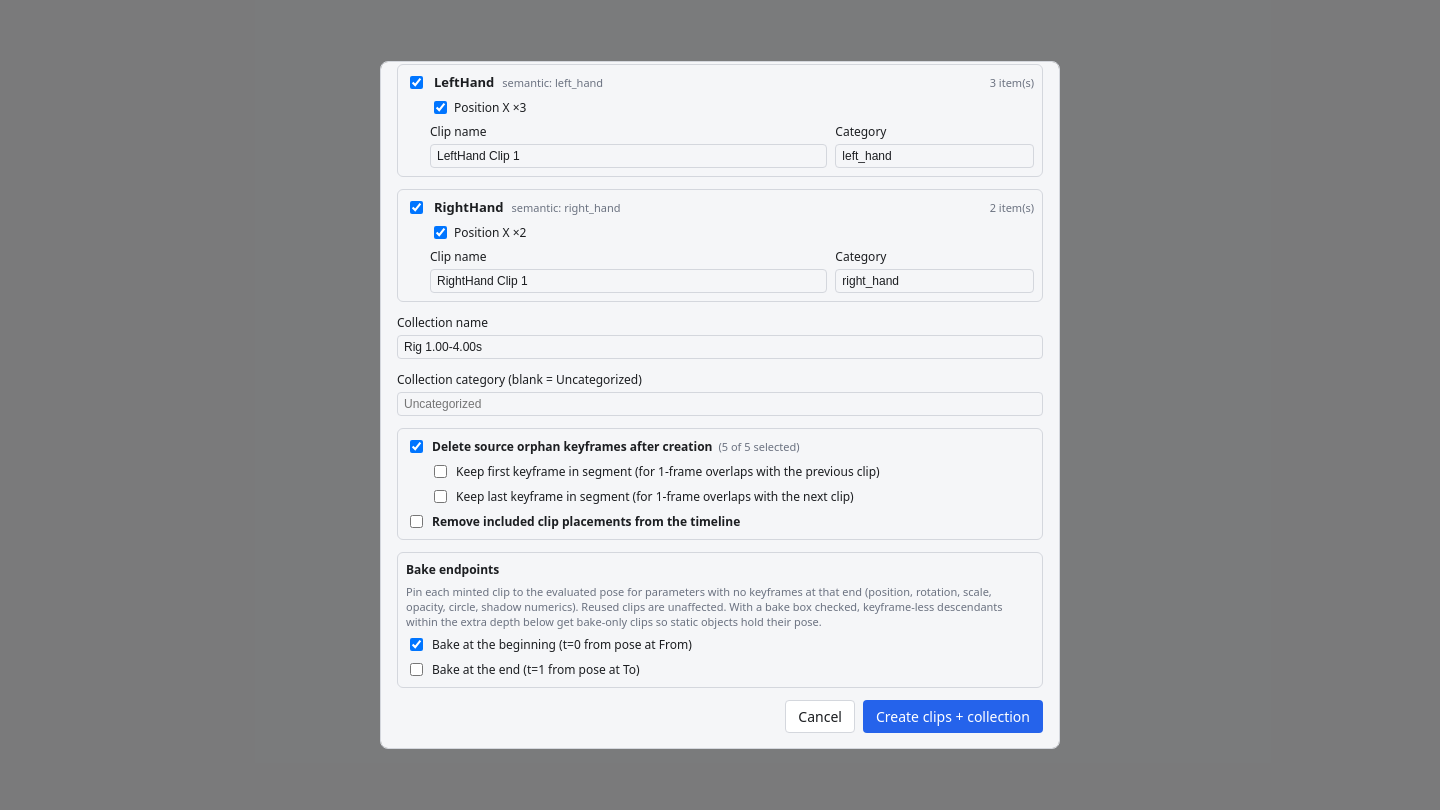
Test: TimeSegmentToCollectionModal › surfaces executor errors inline
(page scrolled)
Expected: the element with test id "segment-object-nA" is shown, [397, 64, 1043, 177]
Click the button with test id "segment-confirm".
click(953, 716)  # box [863, 700, 1043, 733]
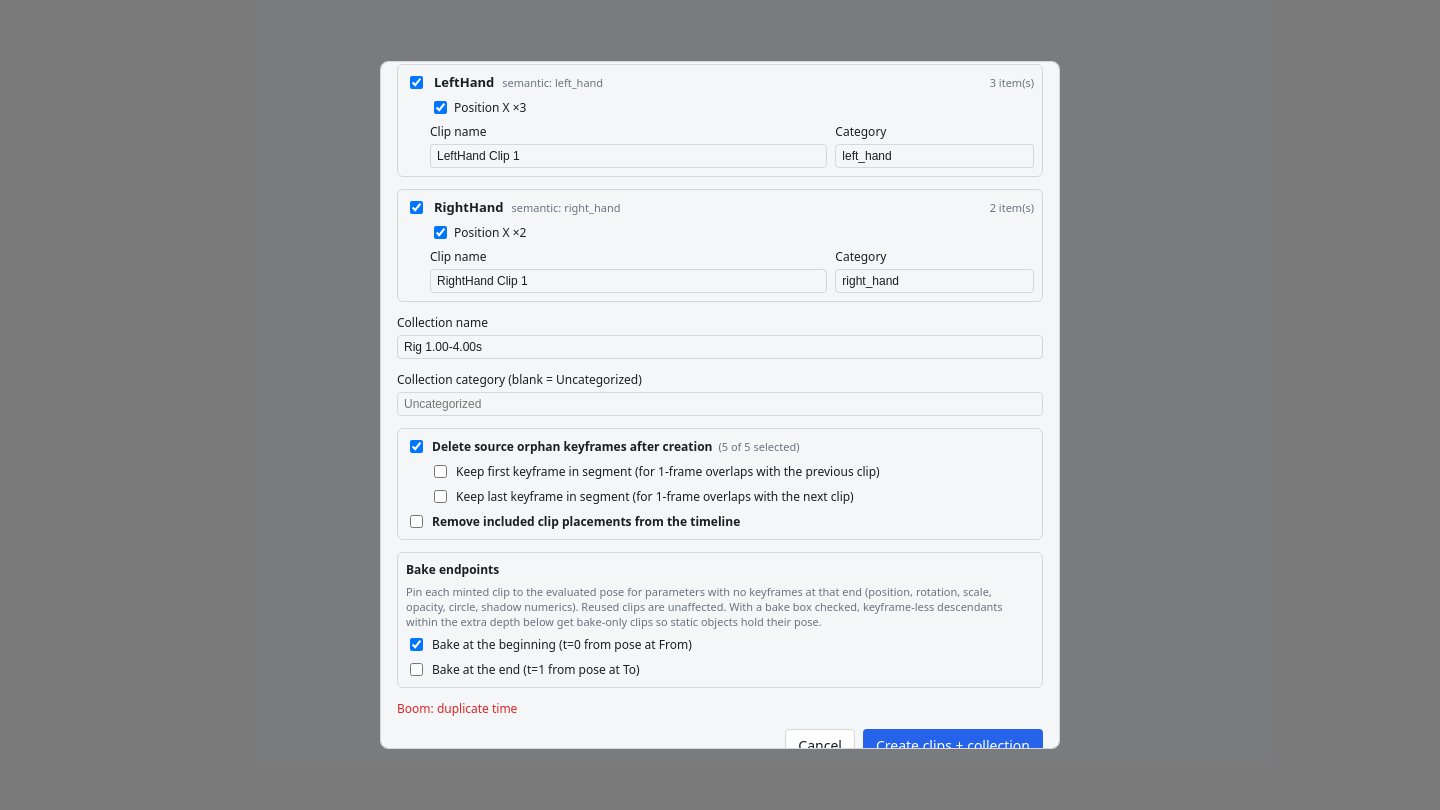
Now the message with test id "segment-error" reads "Boom: duplicate time", box [397, 700, 517, 717]
